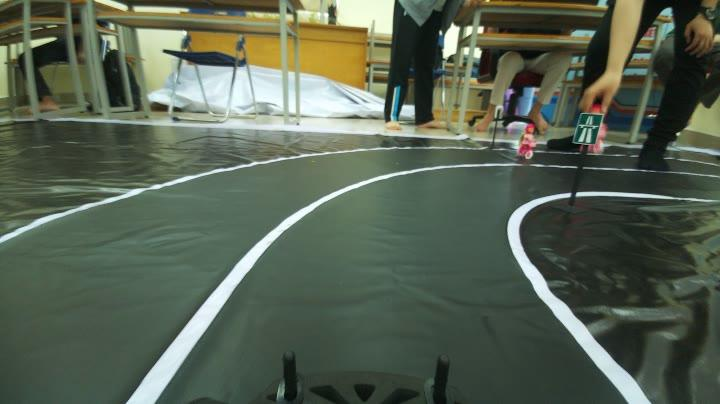highway_entry: (576, 106, 601, 148)
pedestrian: (514, 120, 541, 162)
